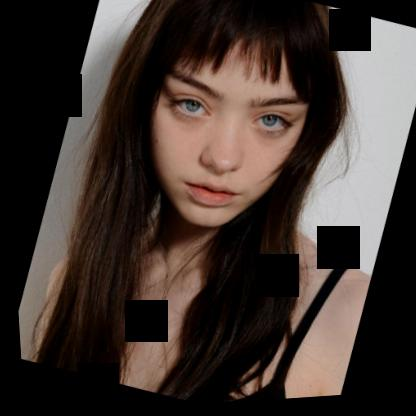Female: (116, 4, 334, 253)
